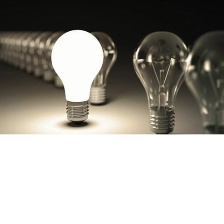light_bulb: (129, 27, 192, 136), (182, 27, 224, 155), (52, 27, 105, 128), (69, 28, 120, 107), (43, 27, 79, 91), (32, 25, 62, 85)
